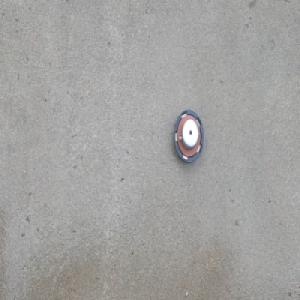FuelCap: (172, 109, 204, 165)
